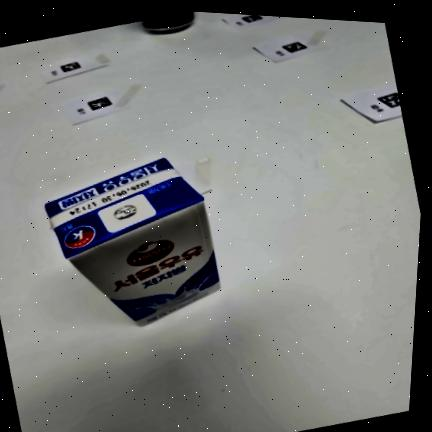milk_blue: (45, 157, 223, 326)
